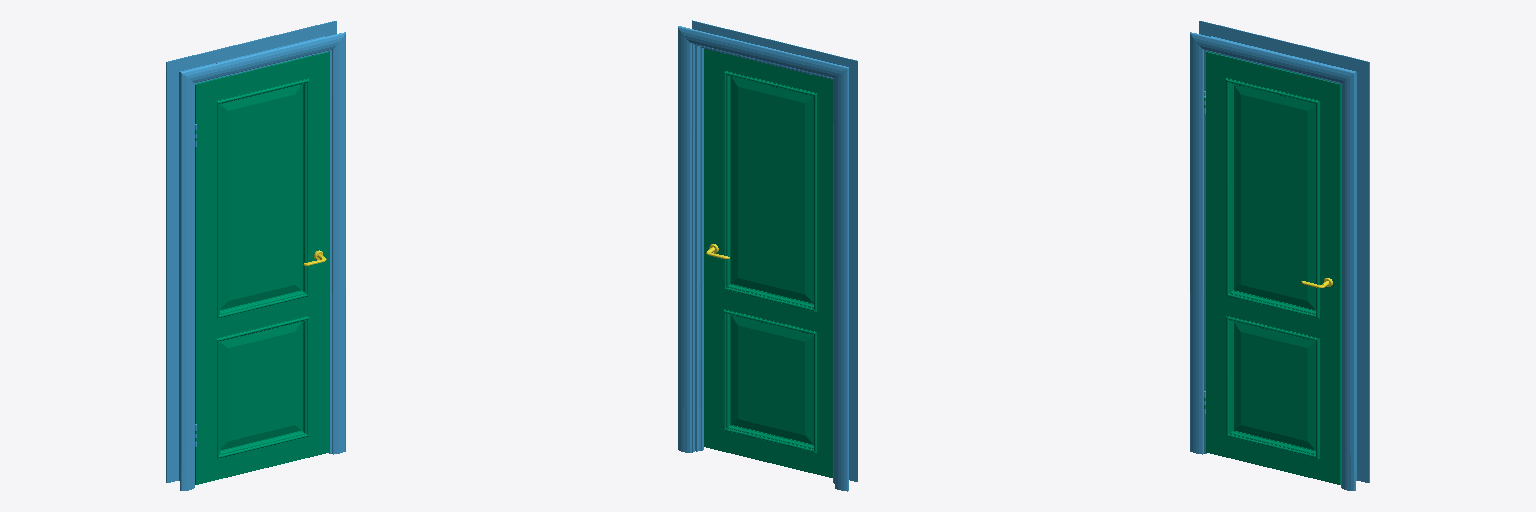
URDF robot description (handle_door):
<?xml version="1.0" encoding="utf-8"?>
<robot name="handle_door">
  <link name="world"/>
  
  <joint name="world_to_frame" type="fixed">
    <origin xyz="0 0 0.005" rpy="0 0 0"/>
    <parent link="world"/>
    <child link="frame"/>
    <dynamics damping="0.7"/>
  </joint>

  <link name="frame">
    <visual>
      <origin xyz="0 0 0" rpy="1.571 0 0"/>
      <geometry>
        <mesh filename="package://door_simulator/meshes/frame_16x22.stl"/>
      </geometry>
    </visual>

    <collision>
      <origin xyz="0 0 0" rpy="1.571 0 0"/>
      <geometry>
        <mesh filename="package://door_simulator/meshes/frame_16x22.stl"/>
      </geometry>
    </collision>

    <inertial>
      <origin xyz=".3 0 1" rpy="0 0 0"/>
      <mass value="20"/>
      <inertia ixx="1.0" ixy="0.0" ixz="0.0" iyy="1.0" iyz="0.0" izz="1.0"/>
    </inertial>
  </link>

  <joint name="hinge_joint" type="revolute">
    <origin xyz="0.07850 -0.00673 0.23370" rpy="0 0 0"/>
    <parent link="frame"/>
    <child link="door"/>
    <axis xyz="0 0 1"/>
    <limit velocity="10" effort="100" lower="-1.5" upper="0"/>
    <dynamics damping="0.7"/>
  </joint>

  <link name="door">
    <visual>
      <origin xyz="0 0 0" rpy="0 0 0"/>
      <geometry>
        <mesh filename="package://door_simulator/meshes/door.stl"/>
      </geometry>
    </visual>

    <collision>
      <origin xyz="0 0 0" rpy="0 0 0"/>
      <geometry>
        <mesh filename="package://door_simulator/meshes/door.stl"/>
      </geometry>
    </collision>

    <inertial>
      <origin xyz=".3 0 1" rpy="0 0 0"/>
      <mass value="10"/>
      <inertia ixx="1.0" ixy="0.0" ixz="0.0" iyy="1.0" iyz="0.0" izz="1.0"/>
    </inertial>
  </link>

  <joint name="handle_joint" type="revolute">
    <origin xyz="0.64207 0.00673 0.77630" rpy="0 0 0"/>
    <parent link="door"/>
    <child link="handle"/>
    <axis xyz="0 -1 0"/>
    <limit velocity="10" effort="0" lower="0" upper="1.15"/>
    <dynamics damping="0.0"/>
  </joint>

  <link name="handle">
    <visual>
      <origin xyz="0 0 0" rpy="0 0 0"/>
      <geometry>
        <mesh filename="package://door_simulator/meshes/handle.stl"/>
      </geometry>
      <dynamics>
        <springStiffness>0.001</springStiffness>
        <springReference>0.06</springReference>
        <damping>0.000001</damping>
      </dynamics>
    </visual>

    <collision>
      <origin xyz="0 0 0" rpy="0 0 0"/>
      <geometry>
        <mesh filename="package://door_simulator/meshes/handle.stl"/>
      </geometry>
    </collision>

    <inertial>
      <origin xyz="0 0 0" rpy="0 0 0"/>
      <mass value="1"/>
      <inertia ixx="1.0" ixy="0.0" ixz="0.0" iyy="1.0" iyz="0.0" izz="1.0"/>
    </inertial>
  </link>
  
  <joint name="latch_joint" type="prismatic">
    <origin xyz="0.69829 0.02101 0.78344" rpy="0 0 0"/>
    <parent link="door"/>
    <child link="latch"/>
    <axis xyz="-1 0 0"/>
    <limit velocity="0.5" effort="100" lower="0.0" upper="0.015"/>
    <dynamics damping="0.00001"/>
    <mimic joint="handle_joint" multiplier="0.01" offset="0.002"/>
  </joint>

  <link name="latch">
    <visual>
      <origin xyz="0 0 0" rpy="0 0 0"/>
      <geometry>
        <mesh filename="package://door_simulator/meshes/latch.stl"/>
      </geometry>
    </visual>

    <collision>
      <origin xyz="0 0 0" rpy="0 0 0"/>
      <geometry>
        <mesh filename="package://door_simulator/meshes/latch.stl"/>
      </geometry>
    </collision>

    <inertial>
      <origin xyz="0 0 0" rpy="0 0 0"/>
      <mass value="0.25"/>
      <inertia ixx="1.0" ixy="0.0" ixz="0.0" iyy="1.0" iyz="0.0" izz="1.0"/>
    </inertial>
  </link>

  <gazebo reference="door">
    <mu1>0.2</mu1>
    <mu2>0.2</mu2>
    <material>Gazebo/Green</material>
    <selfCollide>True</selfCollide>
  </gazebo>

  <gazebo reference="latch">
    <mu1>0.2</mu1>
    <mu2>0.2</mu2>
    <material>Gazebo/Red</material>
    <selfCollide>True</selfCollide>
  </gazebo>

  <gazebo reference="frame">
    <mu1>0.2</mu1>
    <mu2>0.2</mu2>
    <material>Gazebo/Blue</material>
    <selfCollide>True</selfCollide>
  </gazebo>

  <gazebo reference="latch_joint">
      <implicitSpringDamper>True</implicitSpringDamper>
      <springStiffness>2</springStiffness>
      <springReference>0</springReference>
      <cfmDamping>15</cfmDamping>
  </gazebo>

  <gazebo reference="handle_joint">
      <implicitSpringDamper>True</implicitSpringDamper>
      <springStiffness>1</springStiffness>
      <springReference>0</springReference>
      <cfmDamping>1</cfmDamping>
  </gazebo>
    
  <gazebo reference="hinge_joint">
      <implicitSpringDamper>True</implicitSpringDamper>
      <springStiffness>2</springStiffness>
      <springReference>1</springReference>
      <cfmDamping>1</cfmDamping>
  </gazebo>  

  <gazebo>
    <plugin name="gazebo_ros_control" filename="libgazebo_ros_control.so">
      <robotNamespace>/door_simulator</robotNamespace>
      <robotSimType>gazebo_ros_control/DefaultRobotHWSim</robotSimType>
    </plugin>
  </gazebo>

  <transmission name="tran1">
    <type>transmission_interface/SimpleTransmission</type>
    <joint name="hinge_joint">
      <hardwareInterface>hardware_interface/PositionJointInterface</hardwareInterface>
    </joint>
    <actuator name="motor1">
      <hardwareInterface>hardware_interface/PositionJointInterface</hardwareInterface>
      <mechanicalReduction>1</mechanicalReduction>
    </actuator>
  </transmission>

  <transmission name="tran2">
    <type>transmission_interface/SimpleTransmission</type>
    <joint name="handle_joint">
      <hardwareInterface>hardware_interface/PositionJointInterface</hardwareInterface>
    </joint>
    <actuator name="motor2">
      <hardwareInterface>hardware_interface/PositionJointInterface</hardwareInterface>
      <mechanicalReduction>1</mechanicalReduction>
    </actuator>
  </transmission>

  <gazebo>
    <plugin name="gazebo_latch_ros_control" filename="libroboticsgroup_upatras_gazebo_mimic_joint_plugin.so">
      <robotNamespace>/door_simulator</robotNamespace>
      <joint>handle_joint</joint>
      <mimicJoint>latch_joint</mimicJoint>
      <multiplier>0.01</multiplier>
      <offset>0.002</offset>
    </plugin>
  </gazebo>

</robot>

--- Facts derived from the render (not from the file) ---
3 views of the same robot in one strip: view 1: azimuth 30°, elevation 25°; view 2: azimuth 150°, elevation 25°; view 3: azimuth 330°, elevation 25° (orthographic).
Model handle_door with 5 links and 4 joints (2 revolute, 1 prismatic, 1 fixed), rooted at world, posed all joints at 0.
Visible links, largest first — view 1: door, frame; view 2: door, frame; view 3: door, frame.
Boxes of the visible links, bbox=[...] form: door: bbox=[195, 52, 329, 484]; frame: bbox=[166, 21, 345, 490]; door: bbox=[704, 49, 832, 477]; frame: bbox=[678, 20, 857, 491]; door: bbox=[1204, 52, 1340, 484]; frame: bbox=[1190, 21, 1369, 490].
Size in the robot's own frame: 0.887 by 0.186 by 2.1 metres.
4 mesh visuals loaded from 4 distinct referenced files (4 binary STL).
